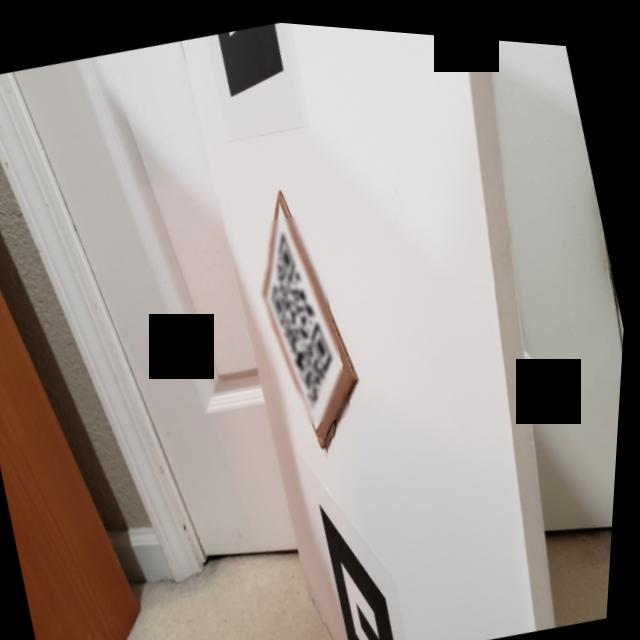QR_CODE: (235, 203, 366, 427)
